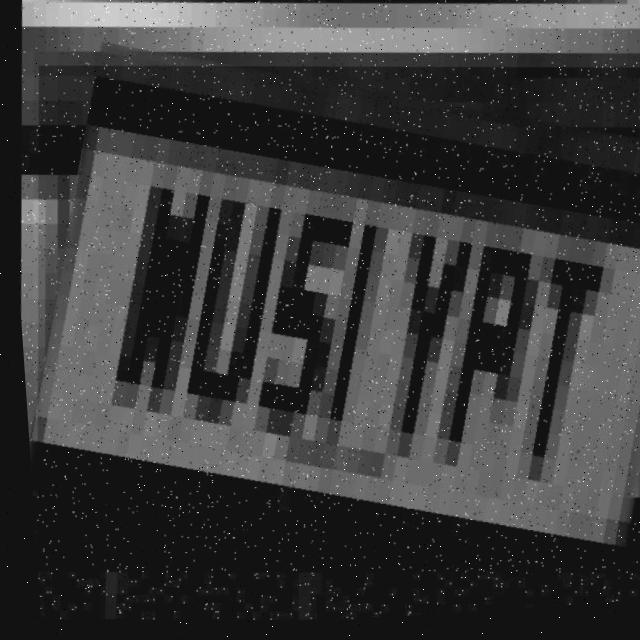LicensePlate: (4, 33, 640, 614)
